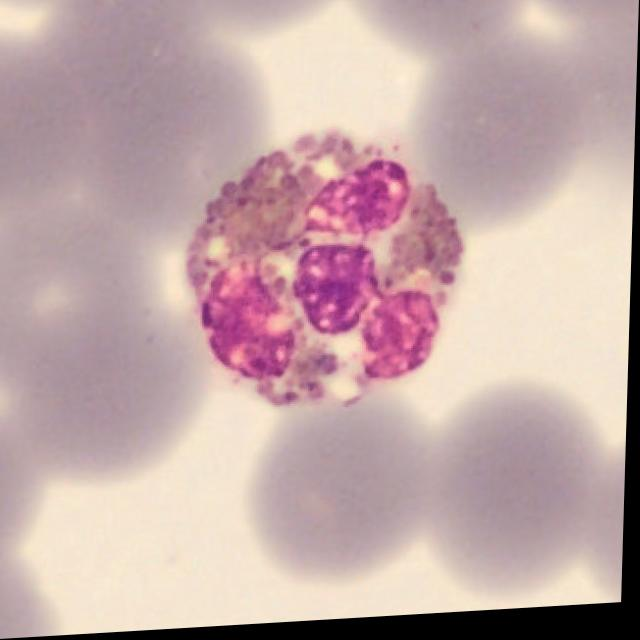Eosinofilo: (188, 133, 466, 413)
